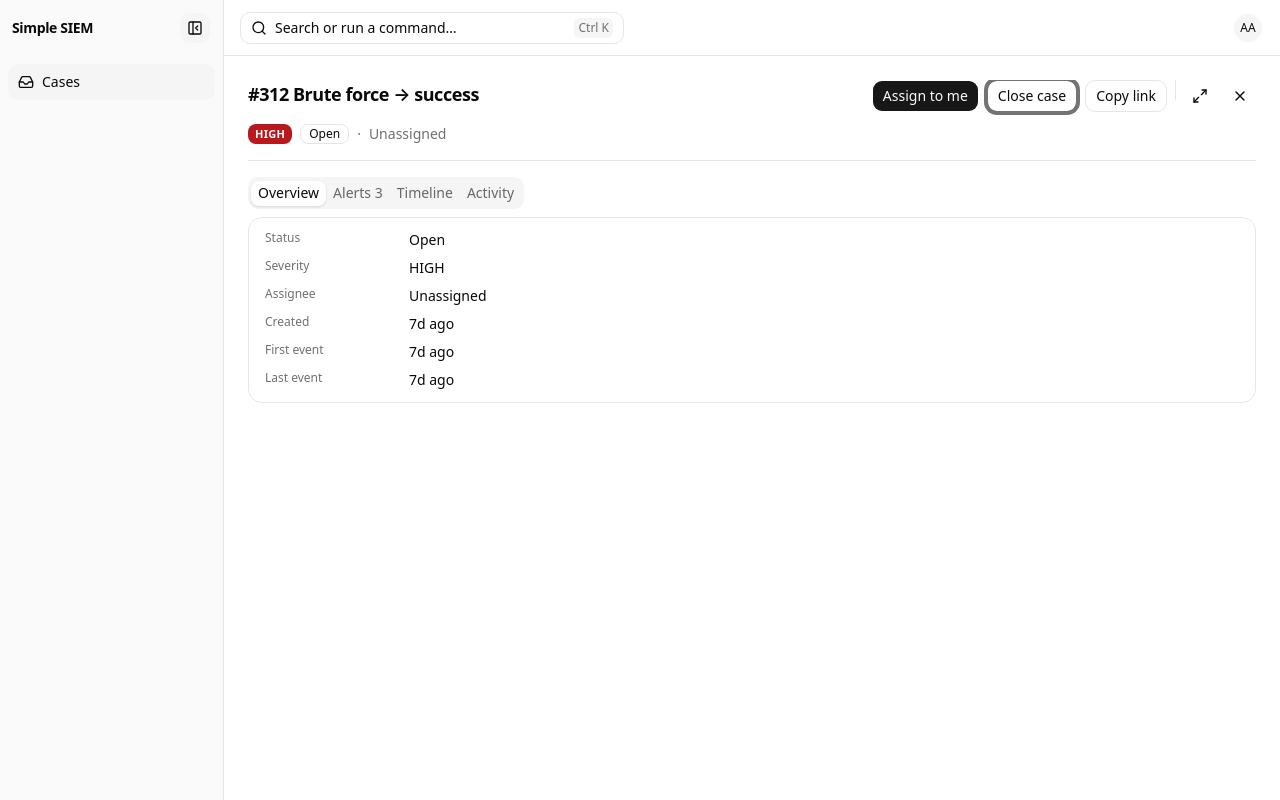
Test: close case dialog › closes on Cancel without a request and focuses Close case
The image size is (1280, 800).
What coordinates should you click on to do the following:
click the button "Close case"
I would click on:
 (1032, 96)
Its box is 987,80 -> 1077,112.
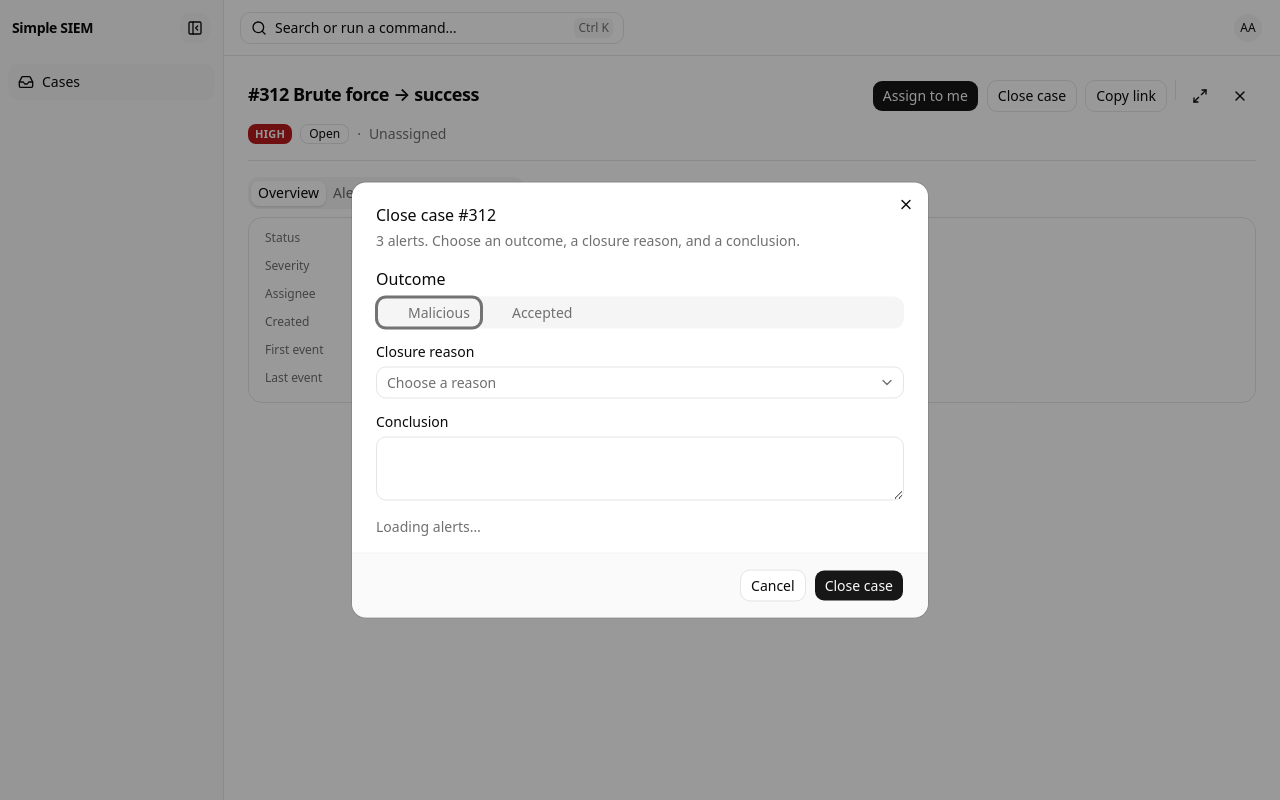
What coordinates should you click on to do the following:
click the button "Cancel"
I would click on:
 (773, 586)
Its box is 740,570 -> 806,602.
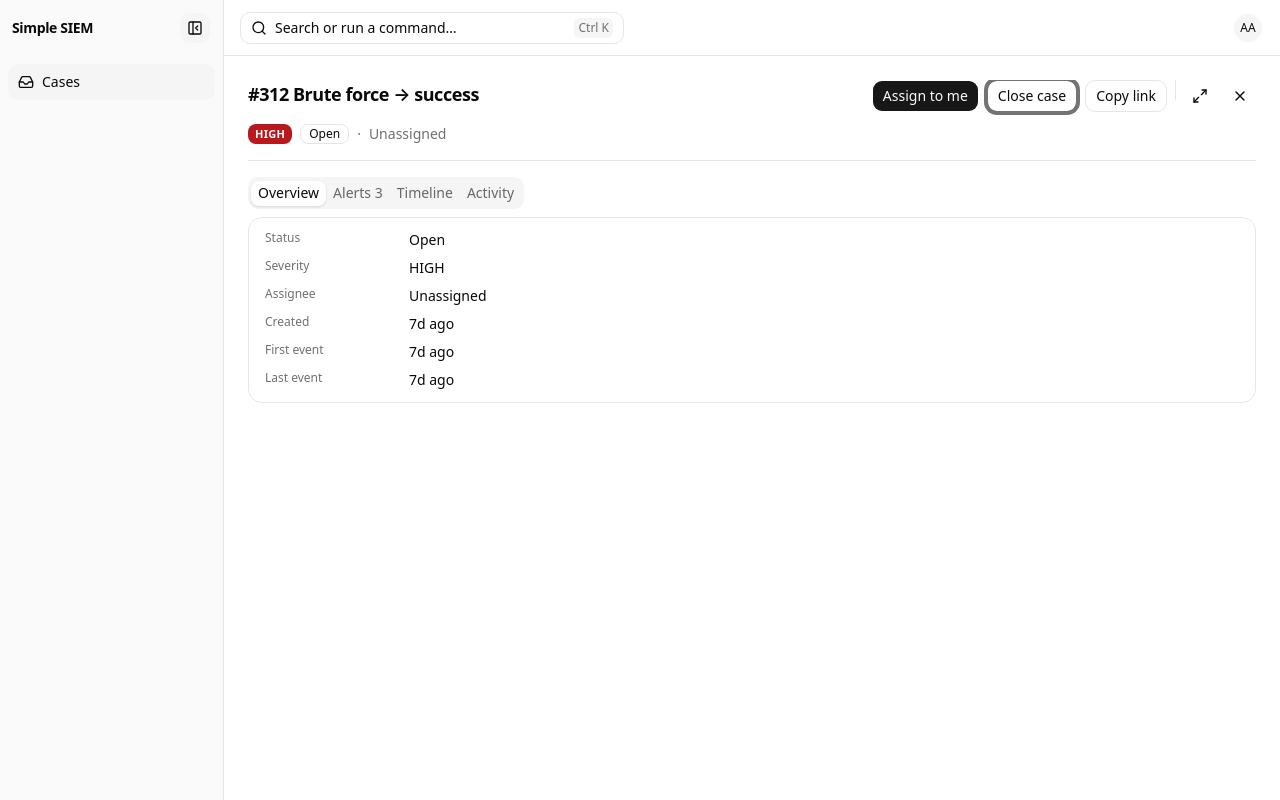
Now the heading "Close case #312" is gone
